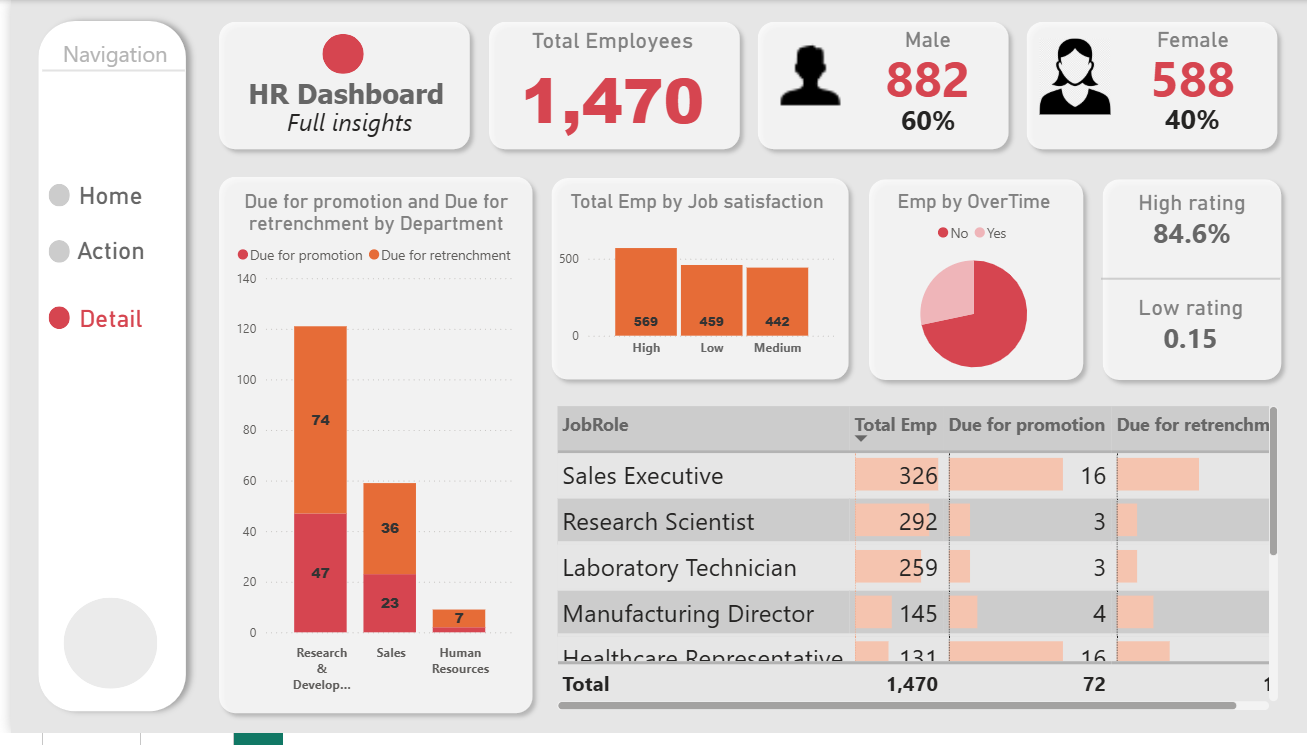

Layout of this report page (visuals, bound fields, positions):
{"tool":"powerbi","page":{"name":"Details","canvas":[1280,720],"ordinal":1},"visuals":[{"type":"shape","box":[16.5,9.6,166.5,699.2],"z":0},{"type":"shape","box":[195.4,12.4,264.3,143.1],"z":1000},{"type":"shape","box":[459.7,12.4,264.3,143.1],"z":2000},{"type":"shape","box":[724,12.4,264.3,143.1],"z":3000},{"type":"shape","box":[988.2,12.4,264.3,143.1],"z":4000},{"type":"shape","box":[195.2,164.4,325.9,544.6],"z":5000},{"type":"shape","box":[521.1,165.9,309.7,215.8],"z":6000},{"type":"shape","box":[833.6,166.7,228.3,215],"z":7000},{"type":"shape","box":[1063.1,166.7,193.3,215],"z":8000},{"type":"textbox","box":[209.7,71.2,238.7,51.4],"z":9000},{"type":"textbox","box":[36.9,33,130.5,51.4],"z":10000},{"type":"textbox","box":[209.7,97.6,251.9,55.4],"z":11000},{"type":"shape","box":[305.9,33,40.9,39.6],"z":12000},{"type":"card","title":"Total Employees","fields":{"Values":["All Measures.Total Emp"]},"box":[468,27.5,246.4,112.9],"z":13000},{"type":"card","title":"Male","fields":{"Values":["All Measures.Male"]},"box":[814.8,26.2,170.7,75.7],"z":14000},{"type":"card","fields":{"Values":["All Measures.Male %"]},"box":[834.1,90.8,132.1,55.1],"z":15000},{"type":"card","title":"Female","fields":{"Values":["All Measures.Female"]},"box":[1068.7,26.2,183.1,75.7],"z":16000},{"type":"card","fields":{"Values":["All Measures.Female %"]},"box":[1083.9,90.8,152.8,53.7],"z":17000},{"type":"image","box":[736.3,26.2,95,90.8],"z":18000},{"type":"image","box":[1004.7,33,79.8,84],"z":19000},{"type":"columnChart","fields":{"Category":["HR Analytics Data.Department"],"Y":["All Measures.Due for promotion","All Measures.Due for retirment"]},"box":[216.3,185.9,284.8,501.1],"z":20000},{"type":"tableEx","fields":{"Values":["HR Analytics Data.JobRole","All Measures.Total Emp","All Measures.Due for promotion","All Measures.Due for retirment"]},"box":[529.5,393.8,718.8,308.1],"z":21000},{"type":"columnChart","fields":{"Category":["HR Analytics Data.Job satisfaction"],"Y":["All Measures.Total Emp"]},"box":[532.8,186.4,281.8,173.2],"z":22000},{"type":"pieChart","title":"Emp by OverTime","fields":{"Category":["HR Analytics Data.OverTime"],"Y":["All Measures.Total Emp"]},"box":[820.3,186,248.9,192.1],"z":23000},{"type":"card","title":"High rating","fields":{"Values":["All Measures.% High emp rating"]},"box":[1066.7,186,186,61.6],"z":24000},{"type":"card","title":"Low rating","fields":{"Values":["All Measures.% Low emp rating"]},"box":[1065.5,289.9,186,61.6],"z":25000},{"type":"shape","box":[1070.1,265.7,176.1,14.7],"z":26000},{"type":"shape","box":[36.9,300.7,21.1,22.4],"z":27000},{"type":"actionButton","title":"Detail","box":[27.7,298,139.8,39.6],"z":28000},{"type":"shape","box":[36.9,236,21.1,22.4],"z":29000},{"type":"actionButton","title":"Action","box":[27.7,232.1,139.8,58],"z":30000},{"type":"shape","box":[36.9,180.7,21.1,22.4],"z":31000},{"type":"actionButton","title":"Home","box":[27.7,178,139.8,54.1],"z":32000},{"type":"shape","box":[30.2,61.6,140.1,15.7],"z":34000}]}

Visuals, with their boxes in screenshot pixels (x1, y1, x2, y2), scaled from the page's 1280x720 canvas onto the 1307x745 screenshot:
shape: bbox=(17, 10, 187, 733)
shape: bbox=(200, 13, 469, 161)
shape: bbox=(469, 13, 739, 161)
shape: bbox=(739, 13, 1009, 161)
shape: bbox=(1009, 13, 1279, 161)
shape: bbox=(199, 170, 532, 734)
shape: bbox=(532, 172, 848, 395)
shape: bbox=(851, 172, 1084, 395)
shape: bbox=(1086, 172, 1283, 395)
textbox: bbox=(214, 74, 458, 127)
textbox: bbox=(38, 34, 171, 87)
textbox: bbox=(214, 101, 471, 158)
shape: bbox=(312, 34, 354, 75)
"Total Employees" card: bbox=(478, 28, 729, 145)
"Male" card: bbox=(832, 27, 1006, 105)
card - All Measures.Male %: bbox=(852, 94, 987, 151)
"Female" card: bbox=(1091, 27, 1278, 105)
card - All Measures.Female %: bbox=(1107, 94, 1263, 150)
image: bbox=(752, 27, 849, 121)
image: bbox=(1026, 34, 1107, 121)
columnChart - HR Analytics Data.Department x All Measures.Due for promotion: bbox=(221, 192, 512, 711)
tableEx - HR Analytics Data.JobRole x All Measures.Total Emp: bbox=(541, 407, 1275, 726)
columnChart - HR Analytics Data.Job satisfaction x All Measures.Total Emp: bbox=(544, 193, 832, 372)
"Emp by OverTime" pieChart: bbox=(838, 192, 1092, 391)
"High rating" card: bbox=(1089, 192, 1279, 256)
"Low rating" card: bbox=(1088, 300, 1278, 364)
shape: bbox=(1093, 275, 1272, 290)
shape: bbox=(38, 311, 59, 334)
"Detail" actionButton: bbox=(28, 308, 171, 349)
shape: bbox=(38, 244, 59, 267)
"Action" actionButton: bbox=(28, 240, 171, 300)
shape: bbox=(38, 187, 59, 210)
"Home" actionButton: bbox=(28, 184, 171, 240)
shape: bbox=(31, 64, 174, 80)
